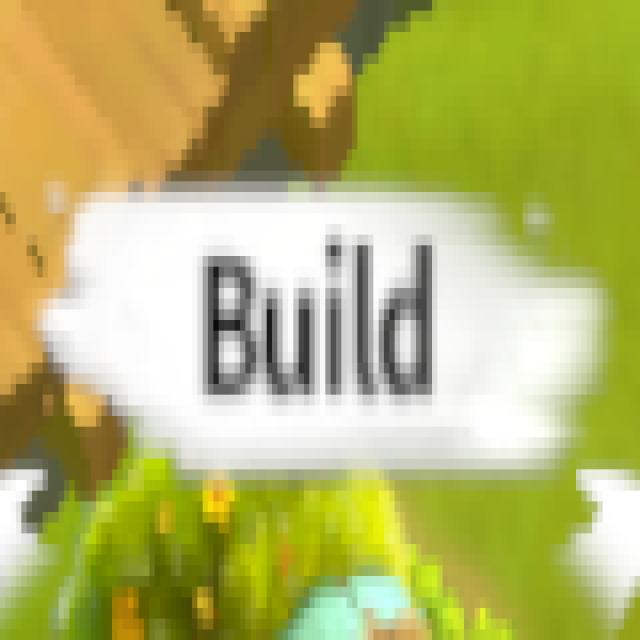build: (183, 208, 452, 423)
